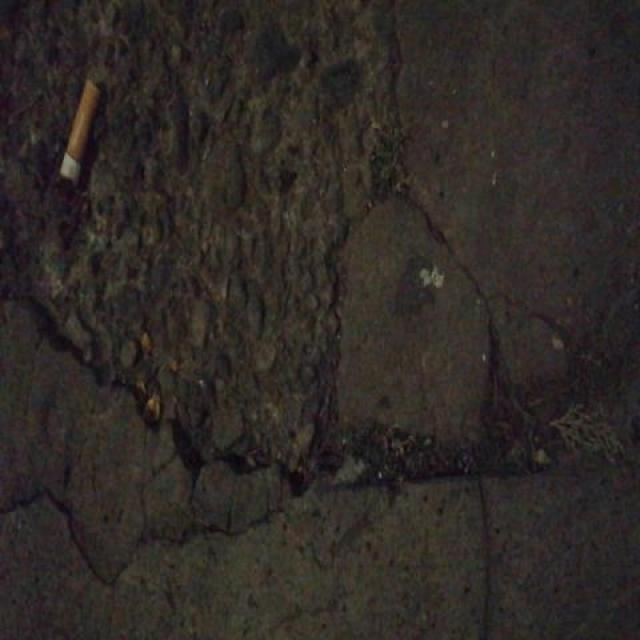non-organic waste: (54, 72, 102, 196)
